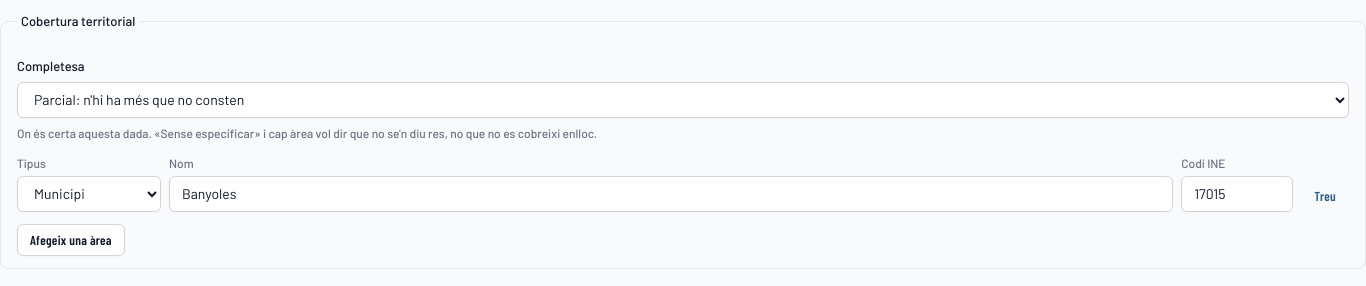
CoverageEditor › canviar el tipus buida el codi i el sistema: cap INE amagat, i el camp de sistema torna
The width and height of the screenshot is (1366, 286).
Select "Comarca" in the dropdown named "Tipus de l'àrea 1": (89, 194) [17, 176, 161, 212]
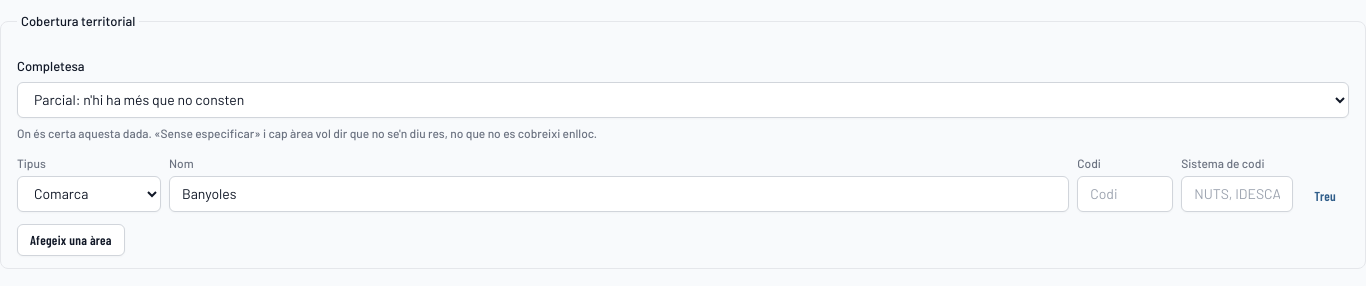
Now the field named "Codi de l'àrea 1" is empty
Now the field named "Sistema de codi de l'àrea 1" is empty, box [1181, 176, 1293, 212]
Now the text "Sistema de codi" is shown, box [1181, 156, 1264, 170]
# La resta de tipus conserven el sistema lliure, i tornar a municipi no recupera cap codi vell.
In the field named "Codi de l'àrea 1": (1125, 194) [1077, 176, 1173, 212], type "ES512"
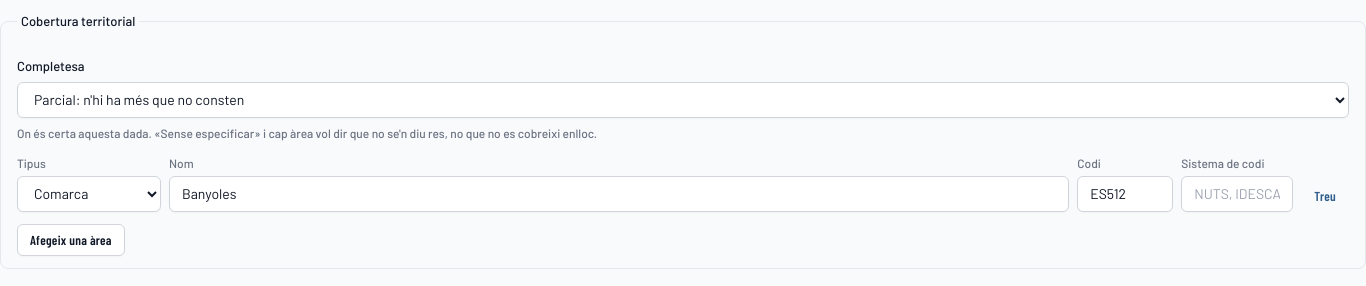
In the field named "Sistema de codi de l'àrea 1": (1237, 194) [1181, 176, 1293, 212], type "NUTS"
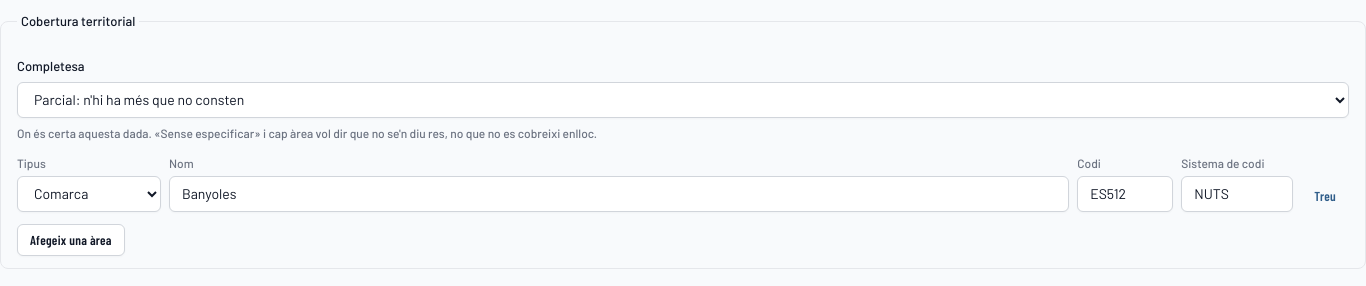
Select "Municipi" in the dropdown named "Tipus de l'àrea 1": (89, 194) [17, 176, 161, 212]
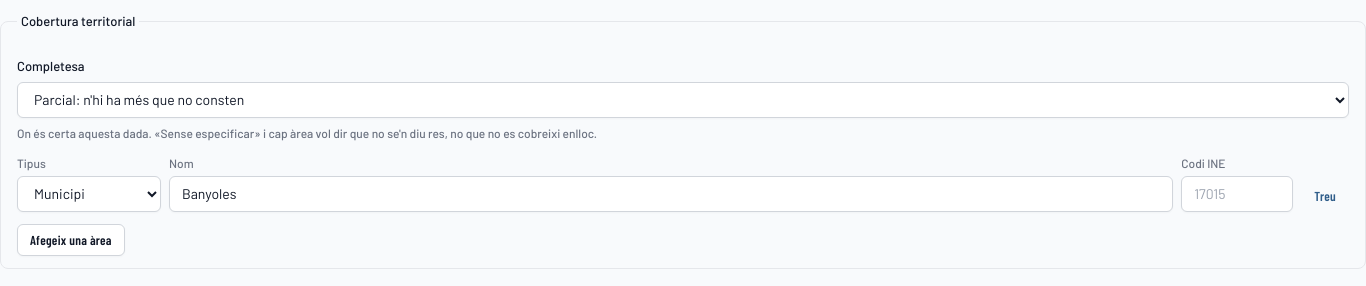
Now the text labelled "Sistema de codi" is gone
